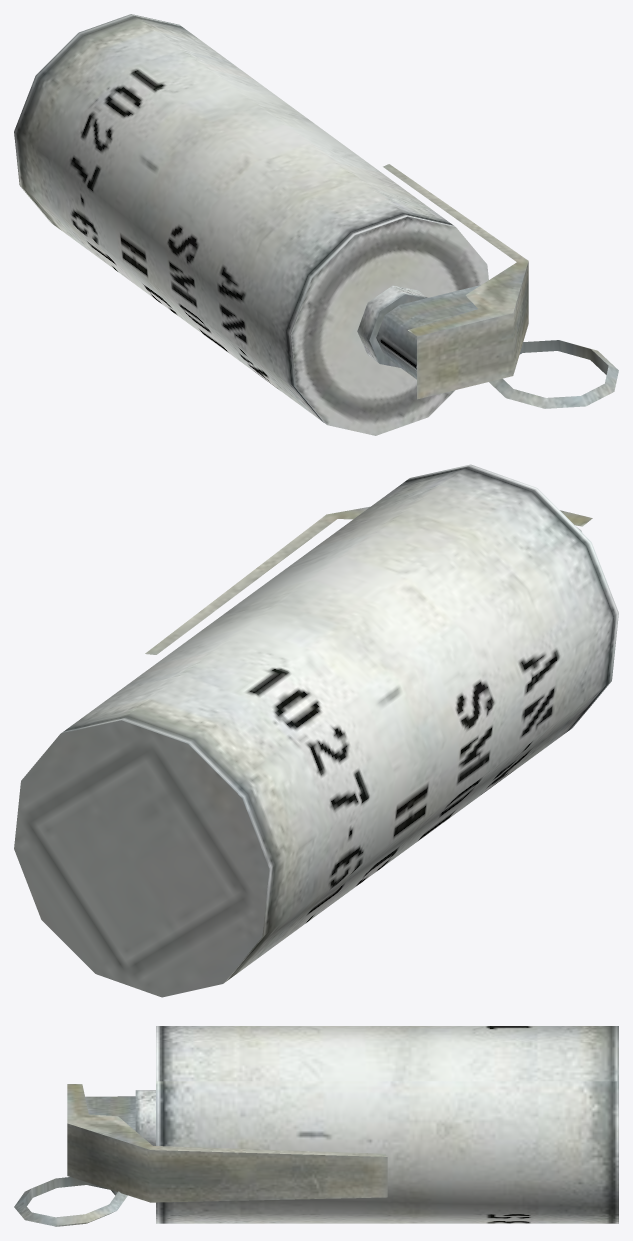
The model's file is weapon_hcsmokegrenade.glb.
3 views of the same model, one above another, from view 1: azimuth 30°, elevation 25°; view 2: azimuth 150°, elevation 25°; view 3: azimuth 270°, elevation 25° (orthographic). The views are drawn at different scales.
Size of the model in its own units: 2.69 by 2.04 by 6.3.
1 material, 1 textured.
